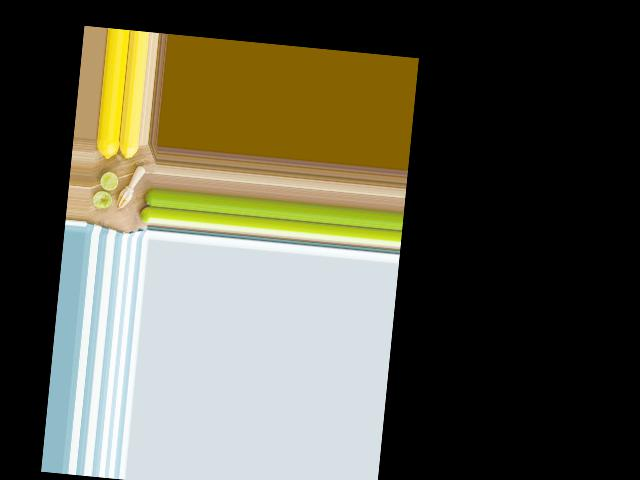lemon: (93, 139, 121, 162)
